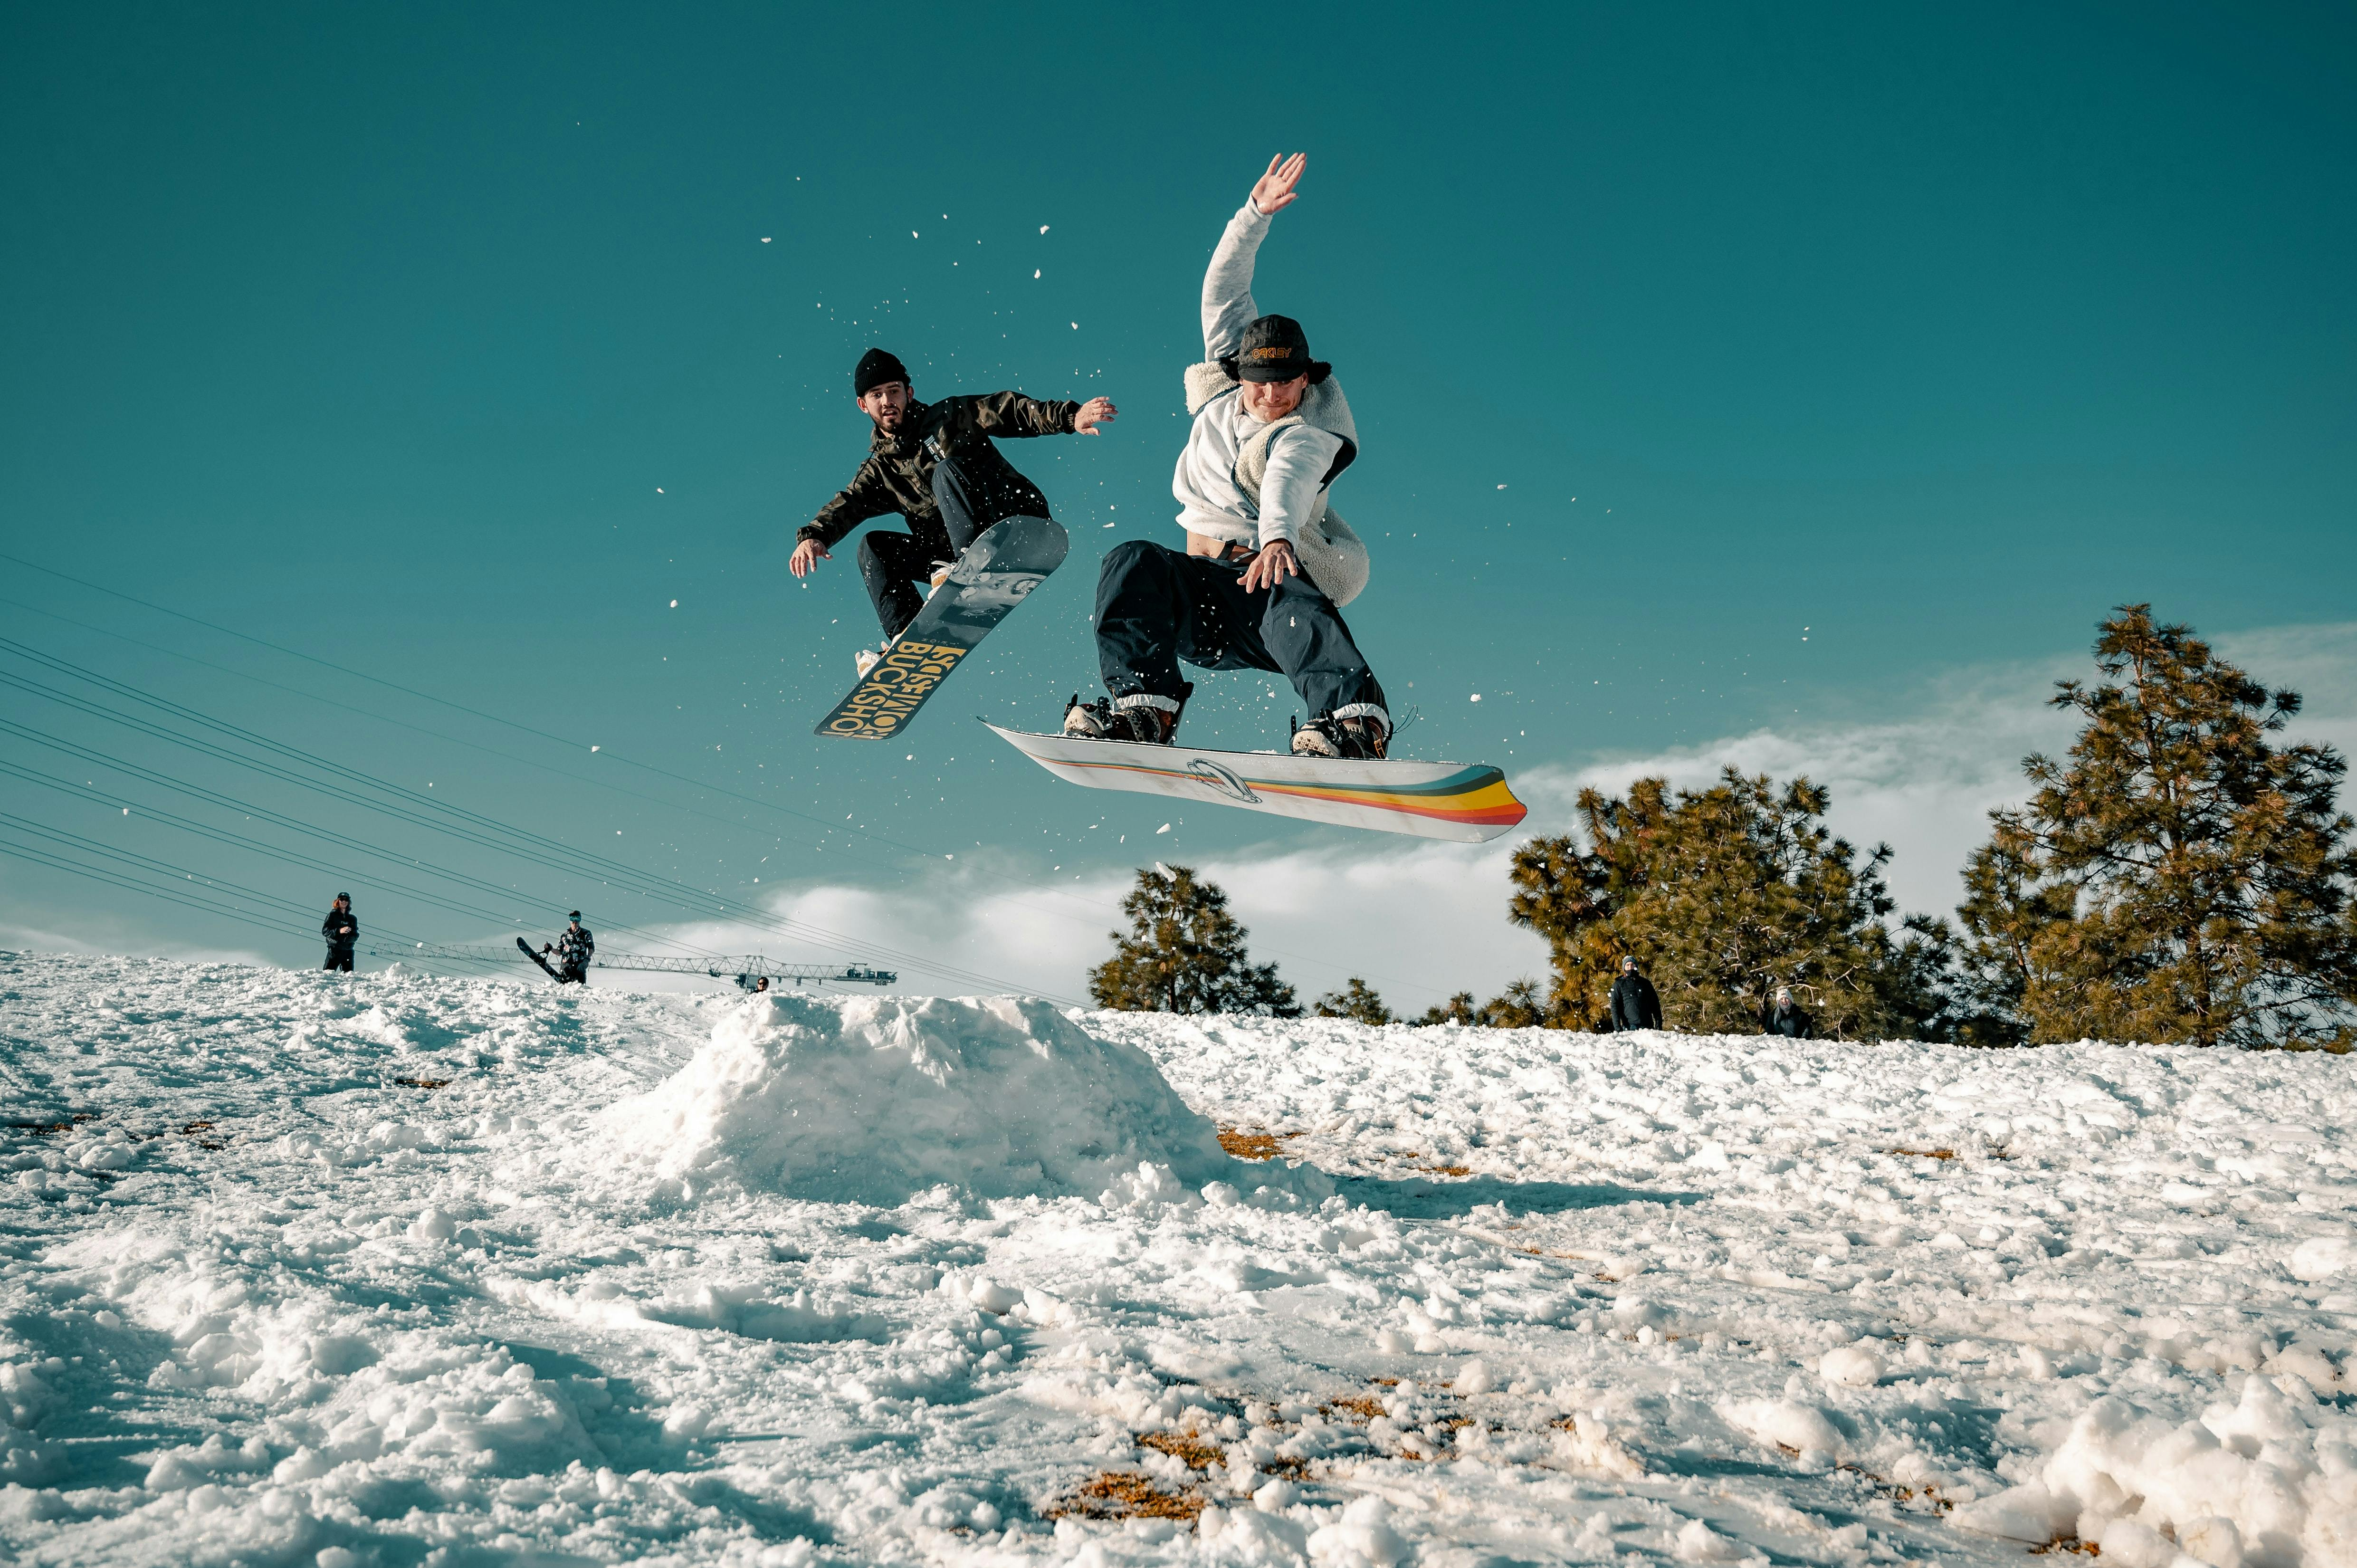snowboarder: (978, 149, 1528, 844), (784, 352, 1092, 707)
